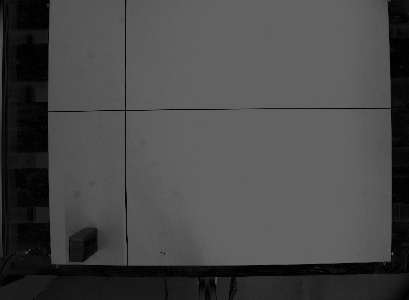b1: (66, 226, 100, 263)
